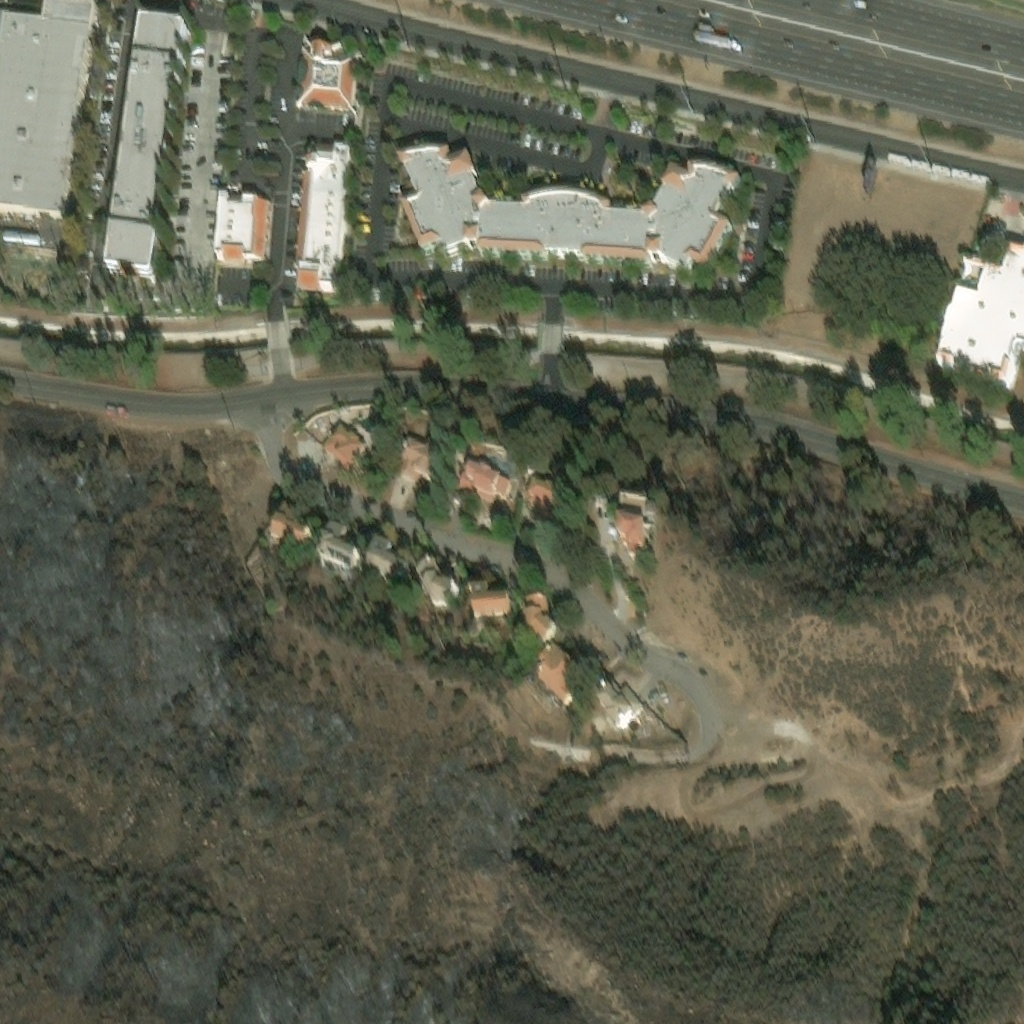0 no-damage: (398, 146, 741, 271), (106, 18, 189, 276), (0, 0, 95, 218), (936, 244, 1023, 381), (296, 144, 354, 293), (297, 39, 359, 110), (215, 194, 273, 265), (532, 642, 587, 699), (592, 676, 644, 725), (316, 524, 364, 576), (617, 495, 656, 553), (272, 506, 318, 554), (399, 439, 443, 485), (322, 428, 368, 468), (458, 465, 512, 499), (366, 541, 409, 583), (417, 560, 458, 603), (522, 597, 559, 644), (526, 478, 563, 514), (472, 583, 510, 614), (298, 56, 308, 79), (531, 673, 541, 683), (609, 526, 618, 536), (297, 84, 303, 93), (328, 428, 335, 435)
